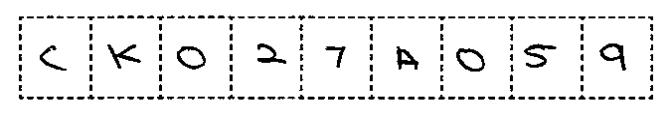0: (450, 44, 495, 77), (172, 38, 210, 75)
2: (252, 39, 289, 71)
5: (520, 38, 559, 73)
7: (320, 40, 352, 74)
9: (593, 37, 632, 75)
A: (389, 43, 424, 77)
C: (34, 37, 70, 78)
K: (100, 37, 147, 78)
